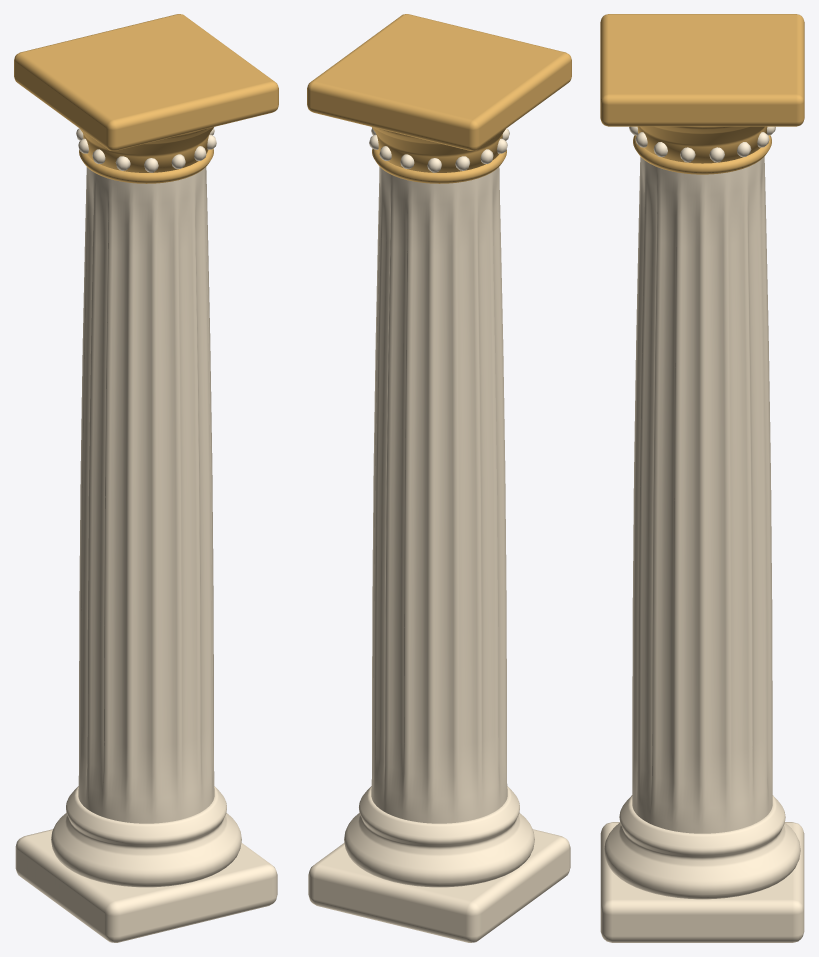
File: pearl-column.glb
3 renders of one model, left to right at view 1: azimuth 30°, elevation 25°; view 2: azimuth 150°, elevation 25°; view 3: azimuth 270°, elevation 25°, orthographic. The views are drawn at different scales.
Visible parts, largest first — view 1: PearlColumn; view 2: PearlColumn; view 3: PearlColumn.
Part boxes in pixels (x1,y1,x2,y2): PearlColumn: (14, 14, 278, 942); PearlColumn: (307, 14, 571, 942); PearlColumn: (600, 14, 804, 942).
Size of the model in its own units: 0.8712 by 4 by 0.8712.
